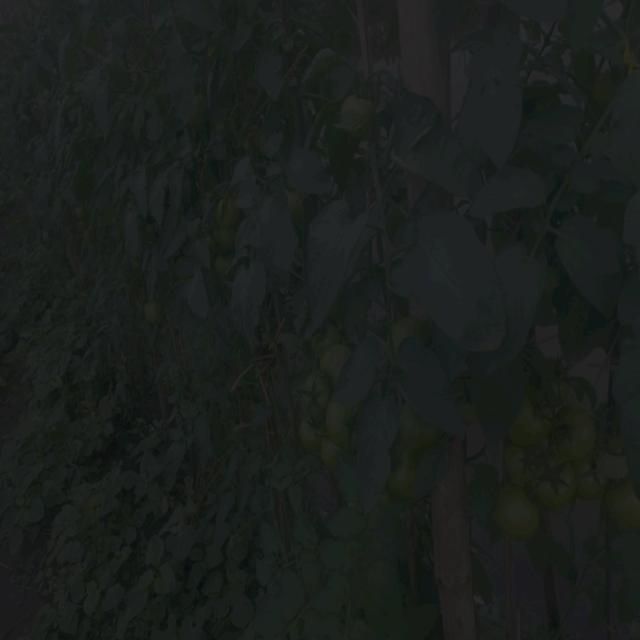tomato: (394, 412, 451, 457), (490, 491, 541, 540), (595, 471, 640, 525), (296, 367, 335, 428), (537, 451, 582, 502), (557, 401, 595, 460), (323, 400, 368, 445), (337, 100, 384, 140), (496, 407, 548, 442), (388, 316, 428, 347), (392, 450, 416, 499), (321, 341, 352, 378), (514, 437, 535, 490), (132, 300, 169, 330), (301, 425, 328, 459), (215, 222, 238, 256), (216, 196, 239, 226), (195, 91, 207, 118), (330, 437, 342, 463)
